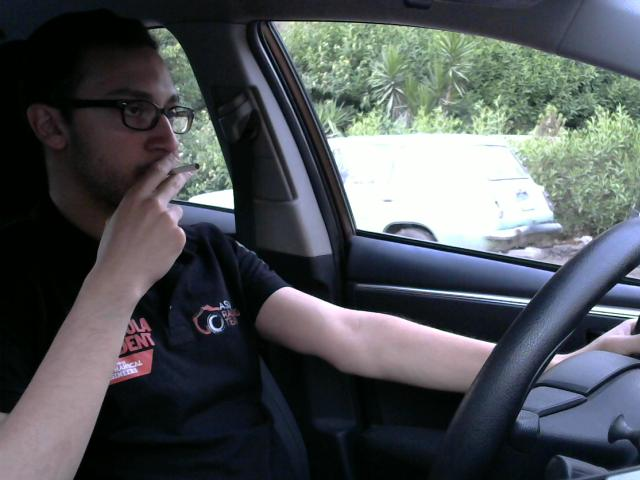Smoking: (153, 159, 205, 179)
